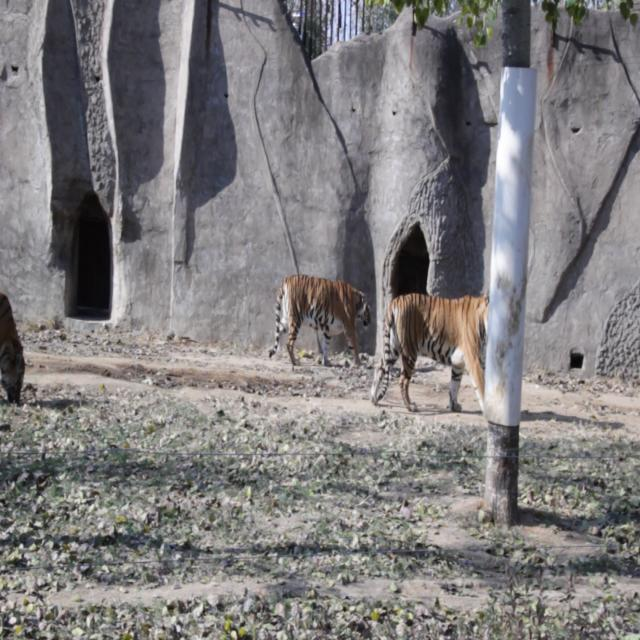Tiger: (369, 282, 498, 427), (268, 269, 372, 378)
